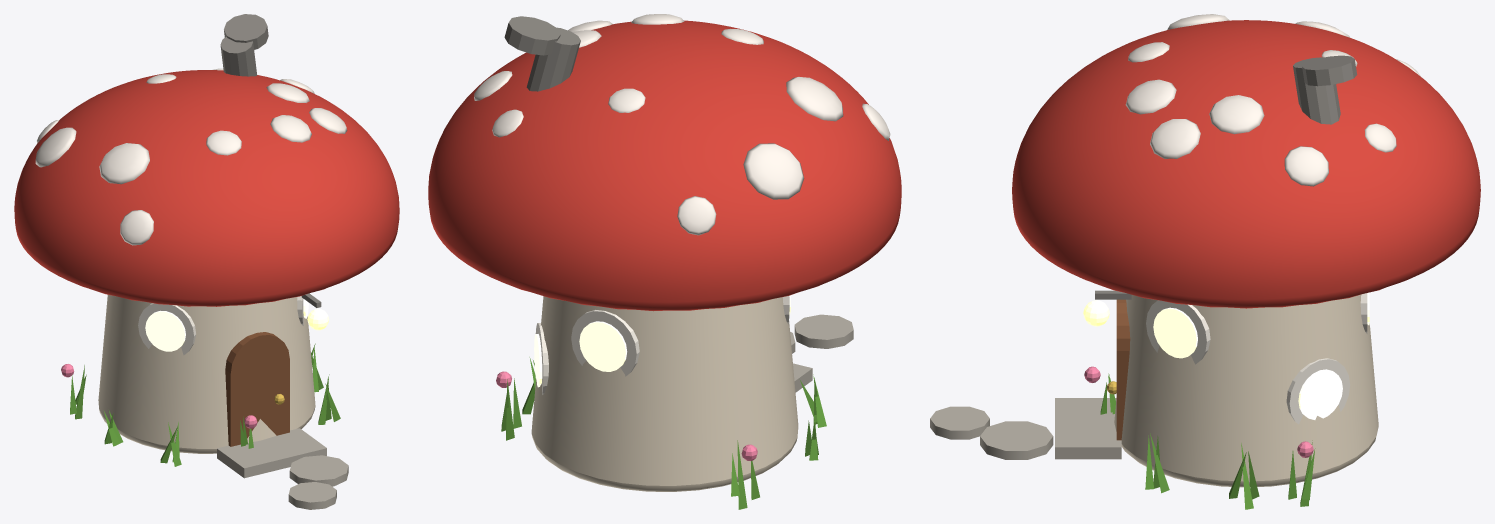
Rendered from mushroom_house.glb.
3 views of the same model, side by side, from view 1: azimuth 30°, elevation 25°; view 2: azimuth 150°, elevation 25°; view 3: azimuth 270°, elevation 25° (orthographic). The views are drawn at different scales.
Visible parts, largest first — view 1: Cap, Stem, Door, Step, DoorArch, Spot6, Stone1, Window0, Chimney, ChimneyTop, Stone2, WindowFrame0 (+6 smaller); view 2: Cap, Stem, Spot5, Chimney, Window2, Stone2, Spot6, ChimneyTop, WindowFrame2, Spot4, Spot3, Spot2 (+1 smaller); view 3: Cap, Stem, Step, Stone1, Window1, Chimney, Window3, Stone2, Spot0, Spot10, Spot1, ChimneyTop (+6 smaller).
Boxes of the visible parts, x1=… form: Cap: x1=14, y1=70, x2=399, y2=306; Stem: x1=98, y1=294, x2=315, y2=453; Door: x1=225, y1=360, x2=289, y2=446; Step: x1=217, y1=428, x2=326, y2=478; DoorArch: x1=225, y1=332, x2=289, y2=395; Spot6: x1=99, y1=143, x2=149, y2=184; Stone1: x1=289, y1=455, x2=348, y2=486; Window0: x1=145, y1=310, x2=185, y2=351; Chimney: x1=220, y1=37, x2=257, y2=76; ChimneyTop: x1=224, y1=14, x2=268, y2=49; Stone2: x1=288, y1=482, x2=336, y2=509; WindowFrame0: x1=138, y1=303, x2=196, y2=355; Cap: x1=428, y1=20, x2=901, y2=311; Stem: x1=531, y1=296, x2=798, y2=491; Spot5: x1=743, y1=143, x2=804, y2=199; Chimney: x1=526, y1=27, x2=580, y2=91; Window2: x1=579, y1=321, x2=627, y2=371; Stone2: x1=794, y1=314, x2=853, y2=348; Spot6: x1=786, y1=77, x2=843, y2=121; ChimneyTop: x1=504, y1=16, x2=560, y2=55; WindowFrame2: x1=571, y1=310, x2=639, y2=376; Spot4: x1=677, y1=196, x2=716, y2=235; Spot3: x1=608, y1=88, x2=645, y2=112; Spot2: x1=492, y1=109, x2=523, y2=137; Cap: x1=1012, y1=20, x2=1480, y2=308; Stem: x1=1114, y1=294, x2=1378, y2=487; Step: x1=1055, y1=398, x2=1121, y2=459; Stone1: x1=980, y1=421, x2=1053, y2=459; Window1: x1=1153, y1=307, x2=1197, y2=358; Chimney: x1=1293, y1=57, x2=1340, y2=124; Window3: x1=1298, y1=369, x2=1342, y2=419; Stone2: x1=930, y1=406, x2=989, y2=439; Spot0: x1=1209, y1=95, x2=1264, y2=134; Spot10: x1=1150, y1=119, x2=1200, y2=158; Spot1: x1=1284, y1=146, x2=1328, y2=186; ChimneyTop: x1=1302, y1=55, x2=1357, y2=86.
Bounding box in the file's own units: 2.82 × 2.86 × 3.31.
